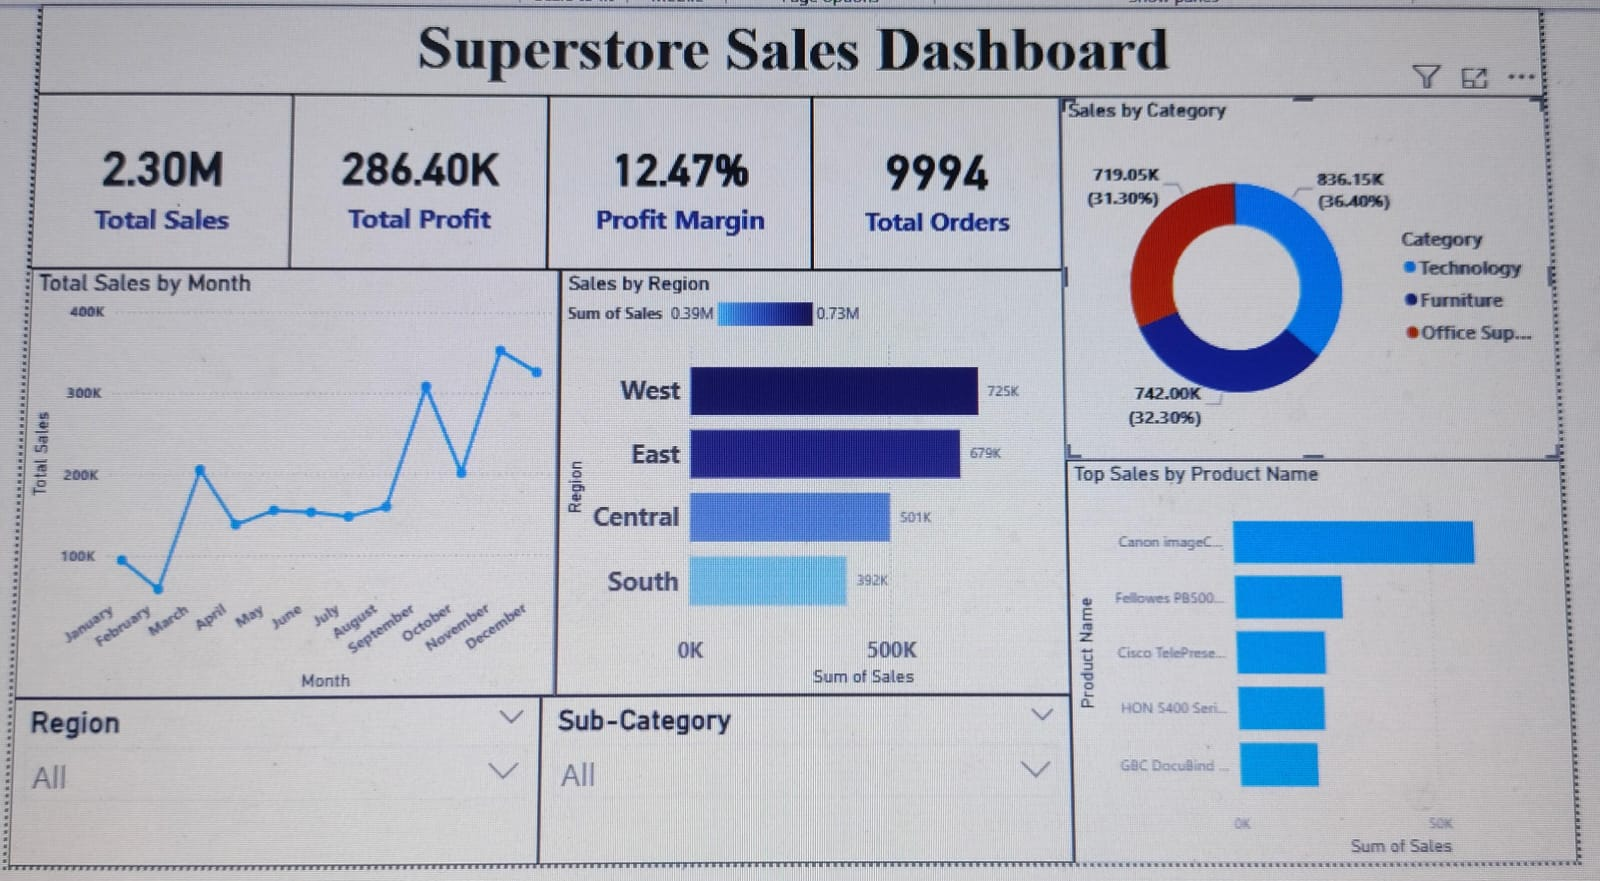

What the dashboard file says about the page in this screenshot:
{"tool":"powerbi","page":{"name":"Page 1","canvas":[1280,720],"ordinal":0},"visuals":[{"type":"textbox","box":[0,0,1280,79],"z":0},{"type":"card","fields":{"Values":["DateTablet .Total Sales"]},"box":[0,79.2,216,149.8],"z":1000},{"type":"card","fields":{"Values":["DateTablet .Total Profit"]},"box":[215.3,78.5,215.3,149.8],"z":2000},{"type":"card","fields":{"Values":["CountNonNull(Sample - Superstore.Order ID)"]},"box":[654.5,78.5,212.4,149.8],"z":3000},{"type":"barChart","title":"Sales by Region","fields":{"Category":["Sample - Superstore.Region"],"Y":["Sum(Sample - Superstore.Sales)"]},"box":[441.8,228.5,425,356.1],"z":4000},{"type":"lineChart","fields":{"Y":["DateTablet .Total Sales"],"Category":["DateTablet .Date.Variation.Date Hierarchy.Month"]},"box":[1.7,228.5,440.1,356.1],"z":5000},{"type":"donutChart","title":"Sales by Category","fields":{"Y":["Sum(Sample - Superstore.Sales)"],"Category":["Sample - Superstore.Category"]},"box":[866.8,79,413.2,310.8],"z":6000},{"type":"slicer","fields":{"Values":["Sample - Superstore.Region"]},"box":[1.7,584.6,428.3,136.1],"z":7000},{"type":"clusteredBarChart","title":"Top Sales by Product Name","fields":{"Category":["Sample - Superstore.Product Name"],"Y":["Sum(Sample - Superstore.Sales)"]},"box":[866.8,389.7,413.2,330.9],"z":8000},{"type":"slicer","fields":{"Values":["Sample - Superstore.Sub-Category"]},"box":[430,584.6,436.7,136.1],"z":9000},{"type":"card","fields":{"Values":["DateTablet .Profit Margin"]},"box":[430.5,78.5,224,149.8],"z":9001}]}

Visuals, with their boxes in screenshot pixels (x1, y1, x2, y2):
textbox: (left=21, top=0, right=1562, bottom=87)
card - DateTablet .Total Sales: (left=21, top=87, right=281, bottom=267)
card - DateTablet .Total Profit: (left=280, top=86, right=539, bottom=267)
card - CountNonNull(Sample - Superstore.Order ID): (left=809, top=86, right=1065, bottom=267)
"Sales by Region" barChart: (left=553, top=267, right=1065, bottom=696)
lineChart - DateTablet .Total Sales x DateTablet .Date.Variation.Date Hierarchy.Month: (left=23, top=267, right=553, bottom=696)
"Sales by Category" donutChart: (left=1065, top=87, right=1562, bottom=461)
slicer - Sample - Superstore.Region: (left=23, top=696, right=539, bottom=860)
"Top Sales by Product Name" clusteredBarChart: (left=1065, top=461, right=1562, bottom=859)
slicer - Sample - Superstore.Sub-Category: (left=539, top=696, right=1064, bottom=860)
card - DateTablet .Profit Margin: (left=539, top=86, right=809, bottom=267)
